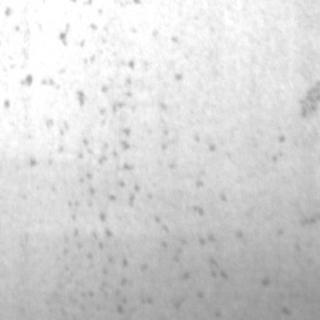pitted_surface: (35, 0, 228, 316), (253, 77, 315, 315)
